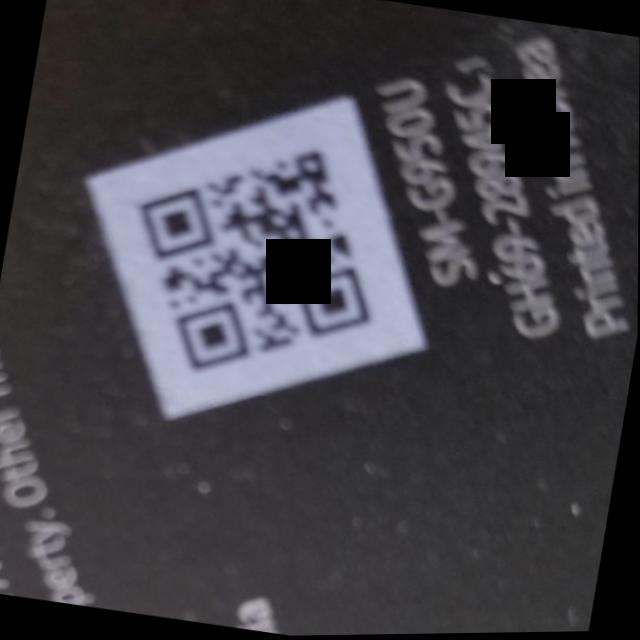QR_CODE: (87, 115, 419, 416)
